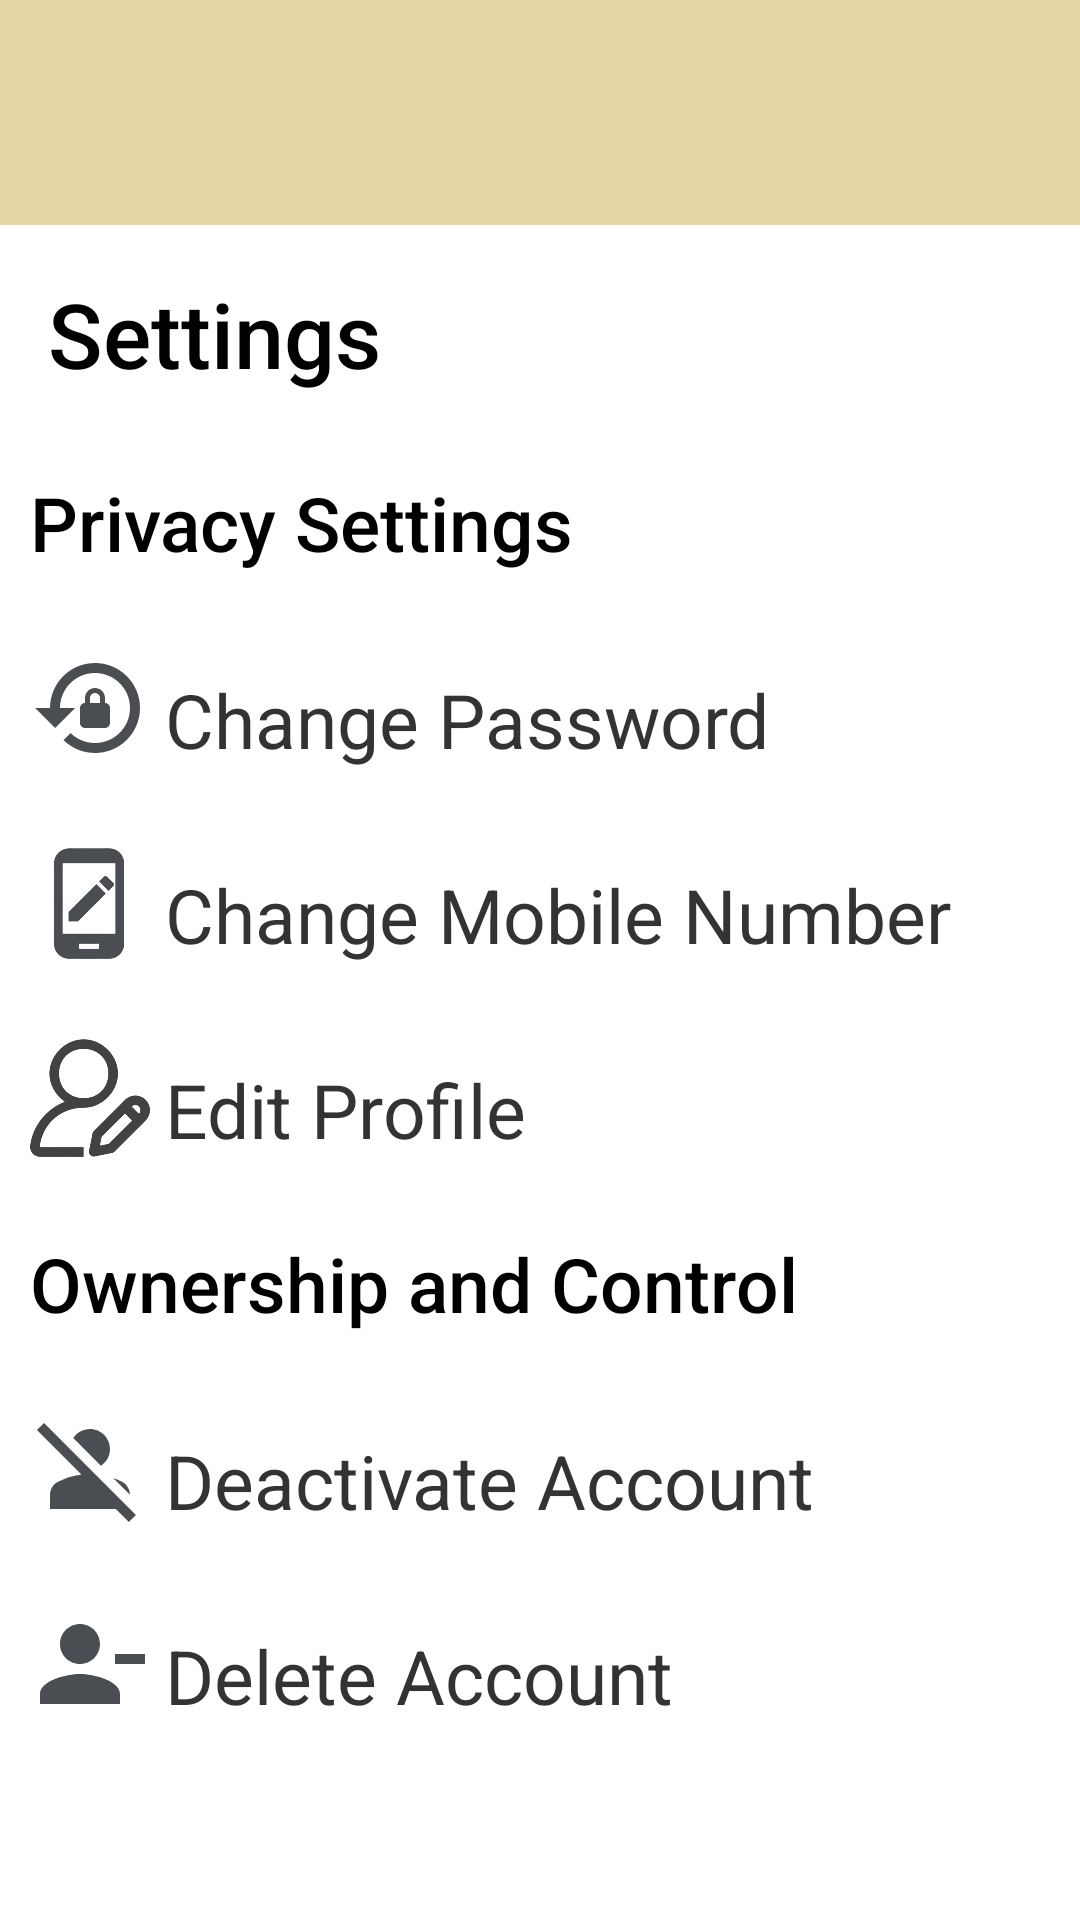

Screen size 1080×1920. Icon name, then its center in pixels as [x,y]:
edit mobile number: [89,903]
lock reset: [87,708]
person off: [86,1472]
person remove: [92,1664]
